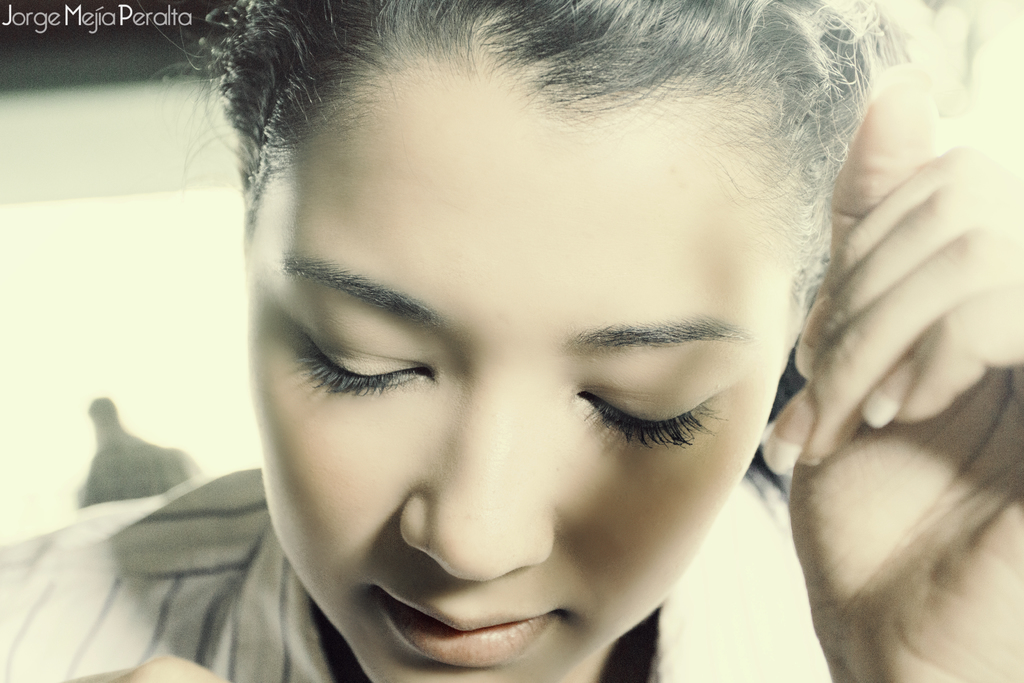Human-face: (244, 54, 798, 682)
